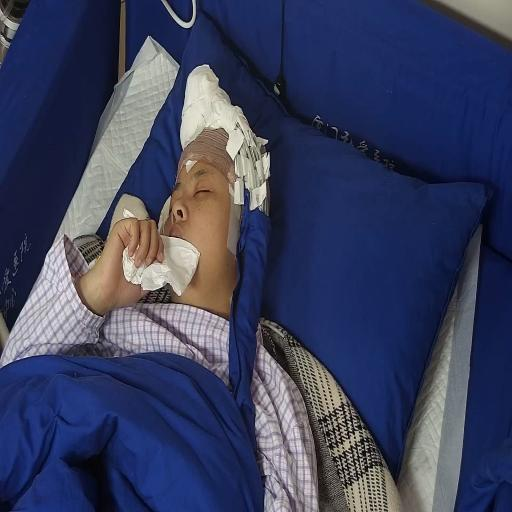Netural: (154, 153, 234, 307)
